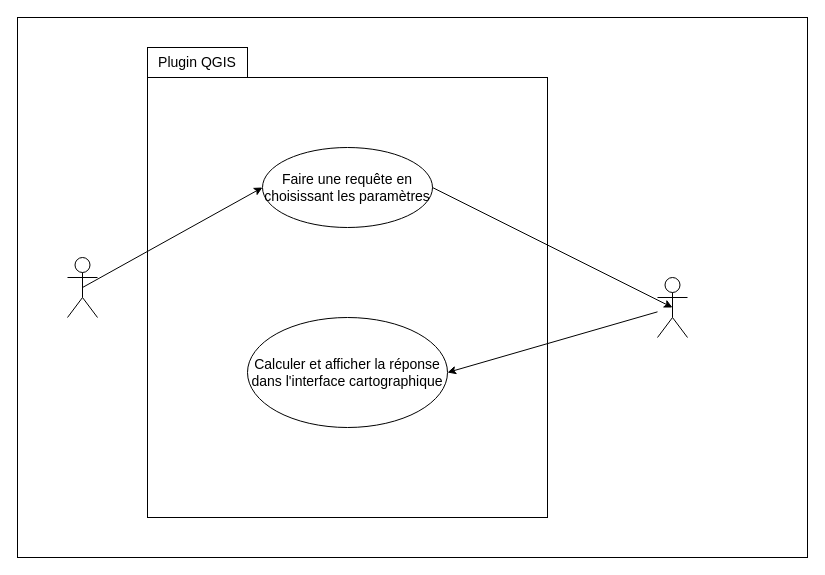
Some shapes in this 825 by 575 pixel diagram are drawn without their labels. Here are the shapes that lost their labels. From the top down, the centre of each, then its label:
At (x=82, y=287): "Utilisateur".
At (x=672, y=307): "<<secondary>> Service de calculs d'isochrones de la Géoplateforme".
